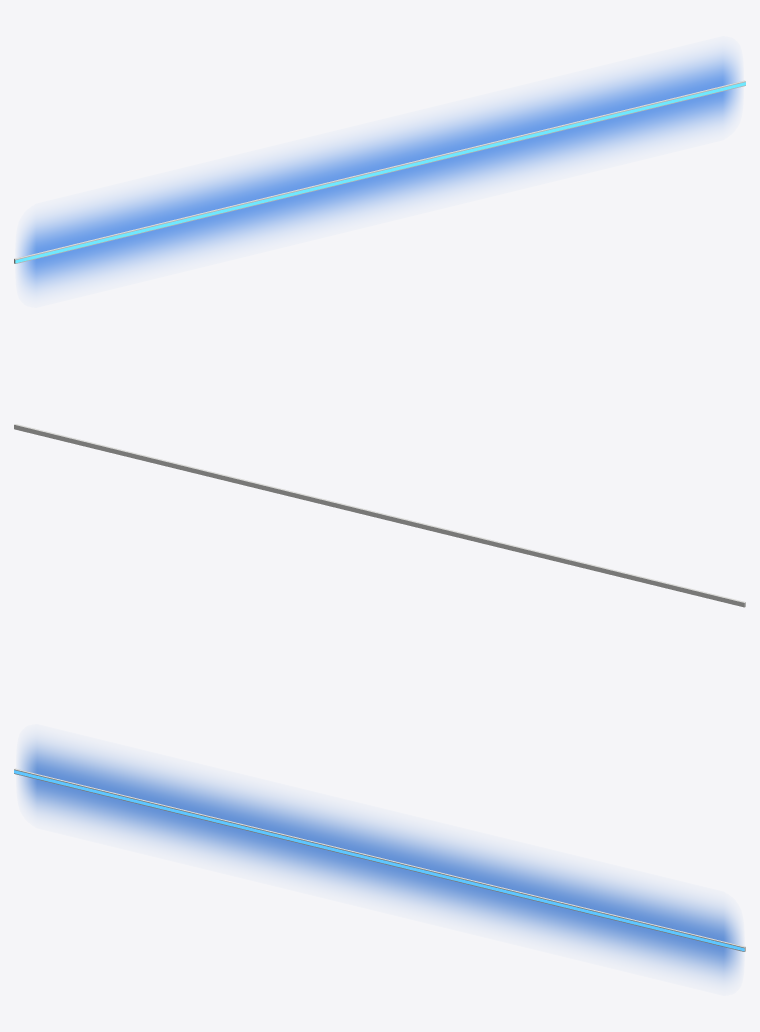
File: obj-led-strip-blue.glb
3 renders of one model, top to bottom at view 1: azimuth 30°, elevation 25°; view 2: azimuth 150°, elevation 25°; view 3: azimuth 330°, elevation 25°, orthographic.
Parts seen in each view (by area): view 1: obj-led-strip-blue; view 2: obj-led-strip-blue; view 3: obj-led-strip-blue.
Boxes of the visible parts, x1=… form: obj-led-strip-blue: x1=14, y1=51, x2=745, y2=292; obj-led-strip-blue: x1=14, y1=424, x2=745, y2=607; obj-led-strip-blue: x1=14, y1=739, x2=745, y2=980.
Bounding box in the file's own units: 2 × 0.3599 × 0.0061.
3 materials, 1 textured.
